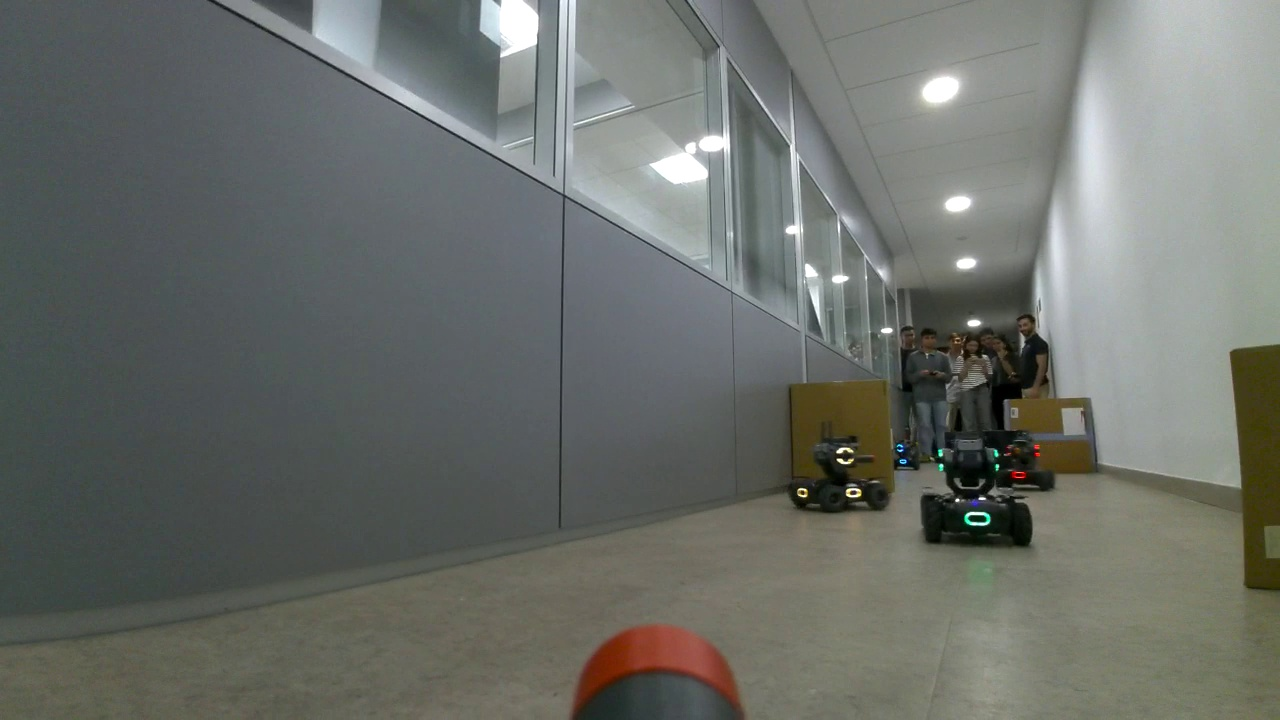robot: (918, 437, 1031, 543), (788, 436, 890, 516), (998, 437, 1054, 495)
